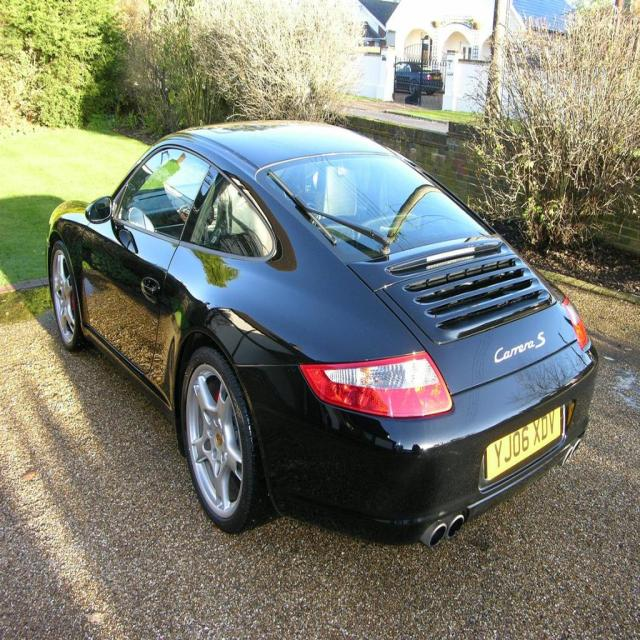car: (46, 122, 595, 543)
